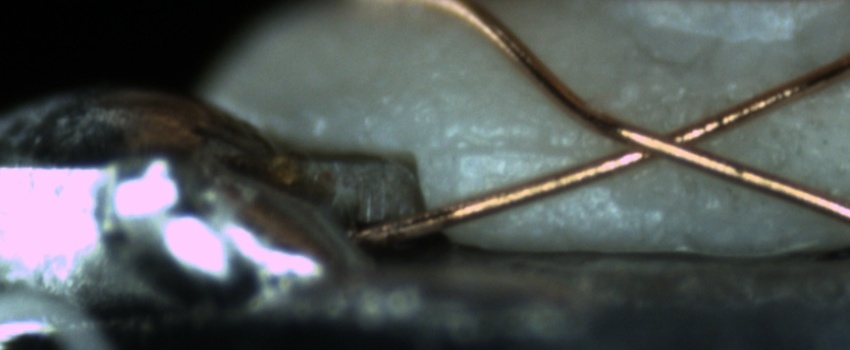CL: (587, 109, 734, 174)
DL: (462, 116, 584, 182)
